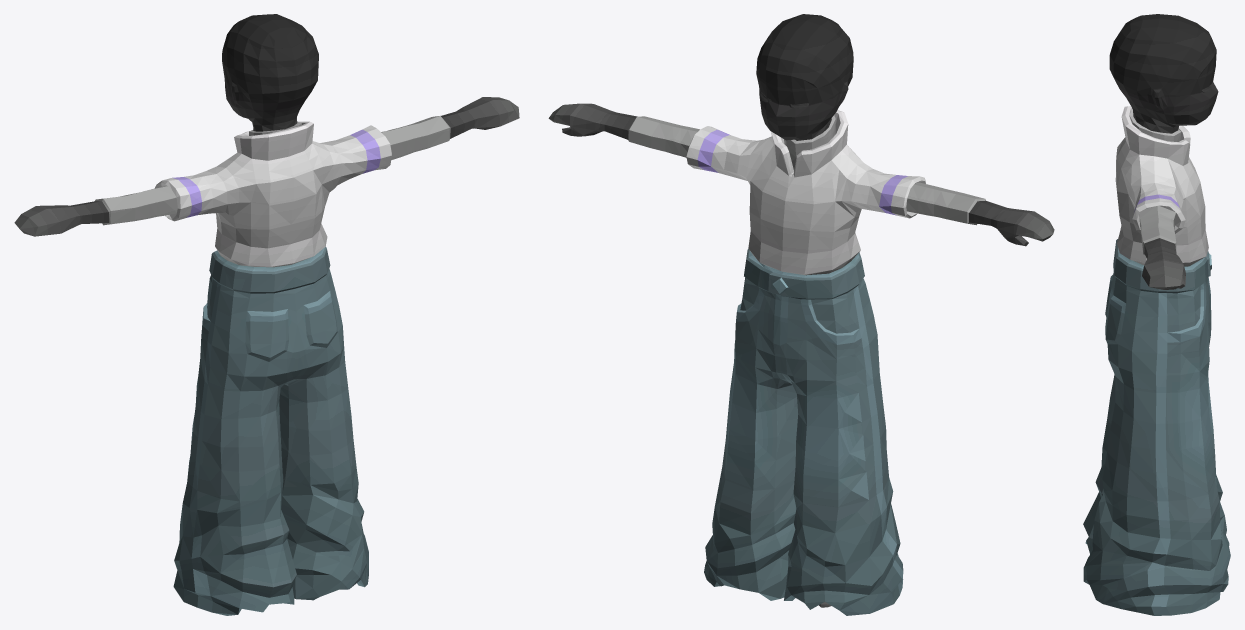
Rendered from CharSkyKid_Body_FashionJeans.glb.
3 renders of one model, left to right at view 1: azimuth 30°, elevation 25°; view 2: azimuth 150°, elevation 25°; view 3: azimuth 270°, elevation 25°, orthographic.
Visible parts, largest first — view 1: CharSkyKid_Body_FashionJeans; view 2: CharSkyKid_Body_FashionJeans; view 3: CharSkyKid_Body_FashionJeans.
Boxes of the visible parts, x1,y1,x2,y2 form: CharSkyKid_Body_FashionJeans: [14, 14, 519, 615]; CharSkyKid_Body_FashionJeans: [548, 14, 1054, 615]; CharSkyKid_Body_FashionJeans: [1083, 14, 1230, 615].
Bounding box in the file's own units: 13.83 × 14.94 × 3.59.
1 material, 1 textured.
